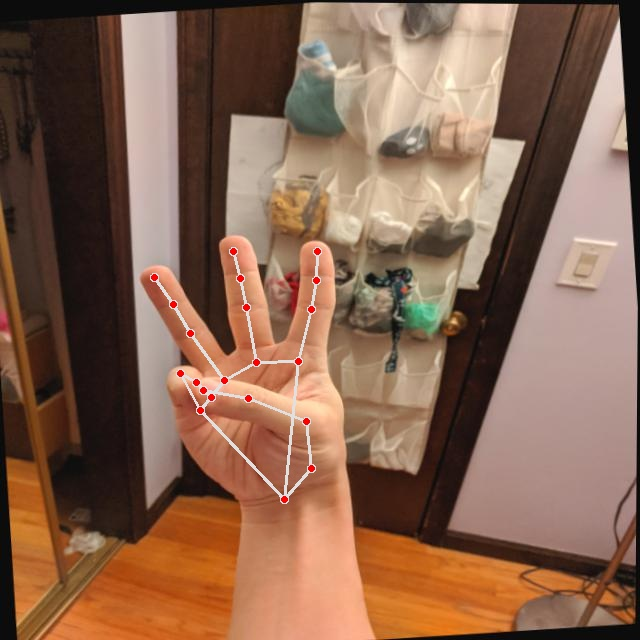W: (133, 222, 362, 508)
